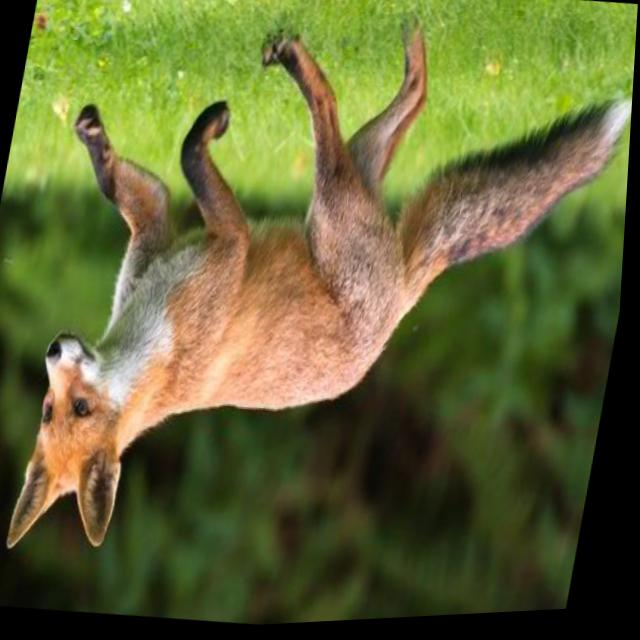cat: (0, 0, 640, 633)
